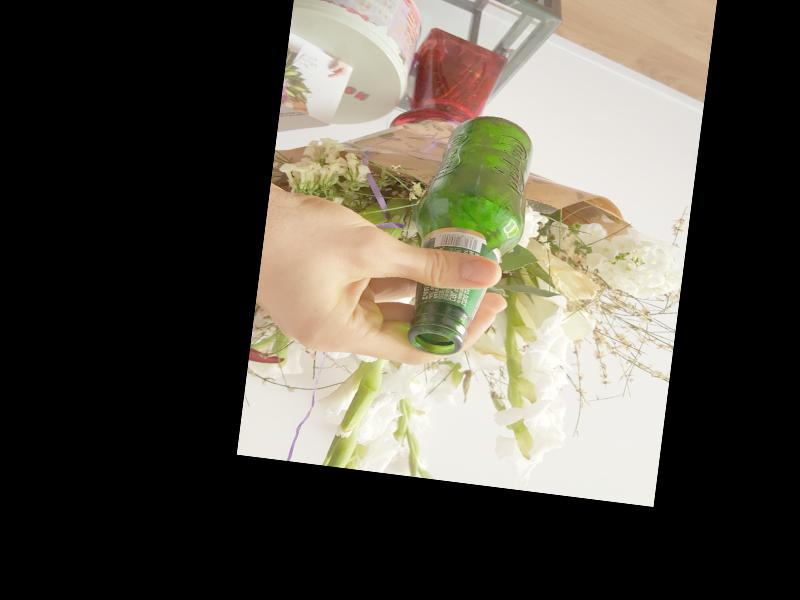Beer: (400, 107, 538, 361)
